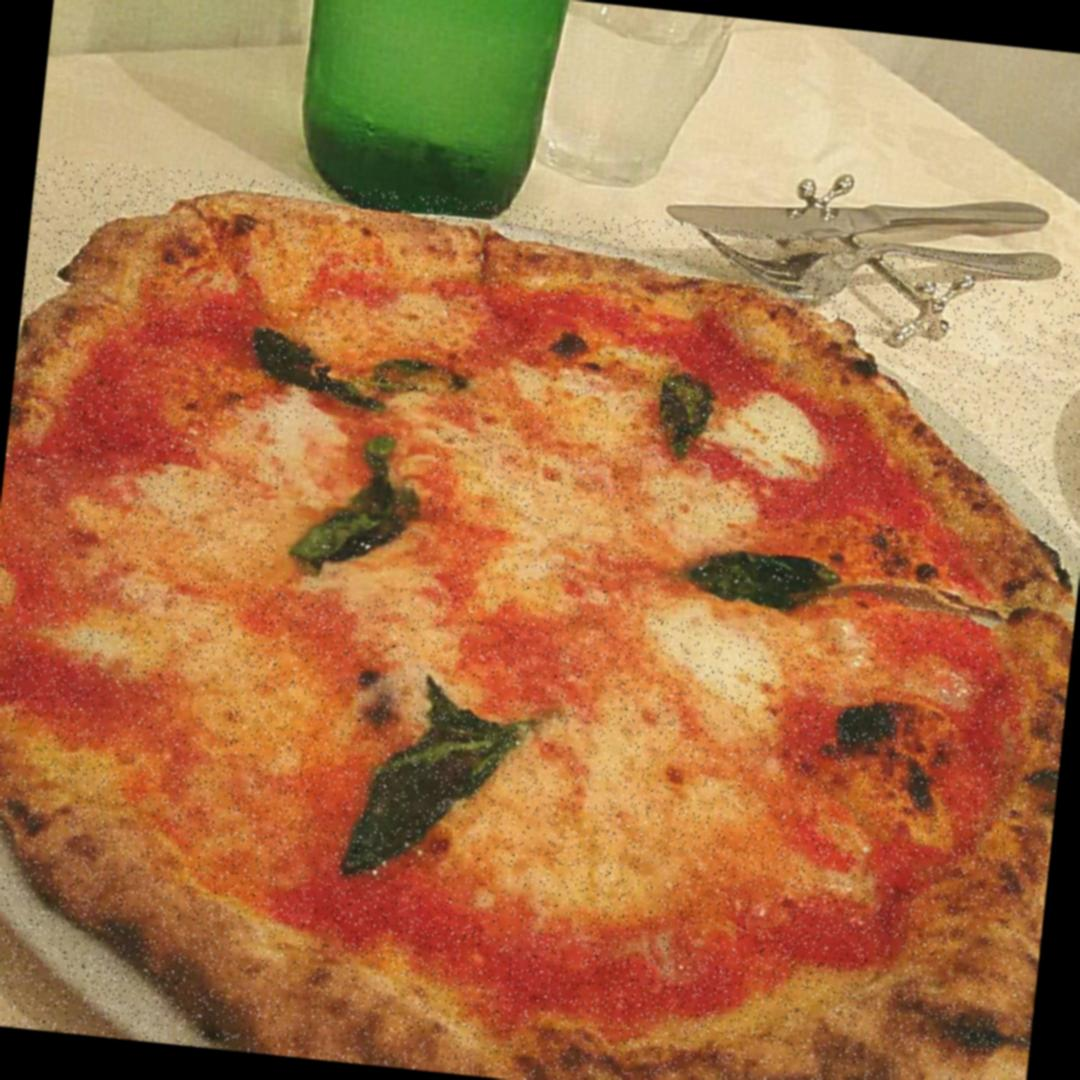Basil: (337, 651, 564, 927), (272, 400, 438, 602), (656, 519, 870, 641), (232, 314, 406, 422), (351, 326, 478, 419), (642, 357, 730, 469), (536, 305, 620, 382)
Pizza: (0, 154, 1080, 1080)
